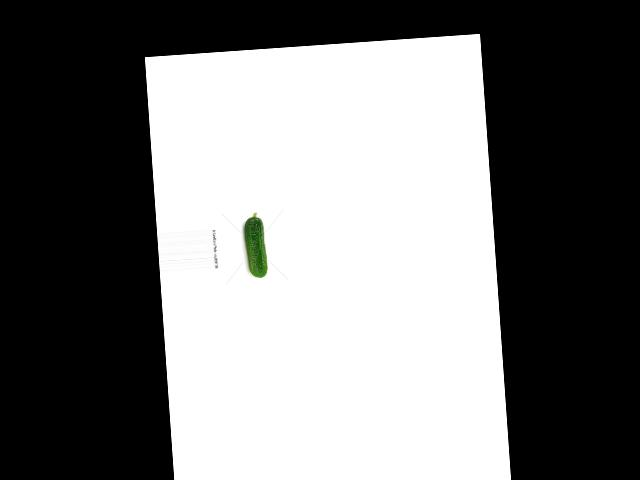cucumber: (243, 212, 267, 279)
